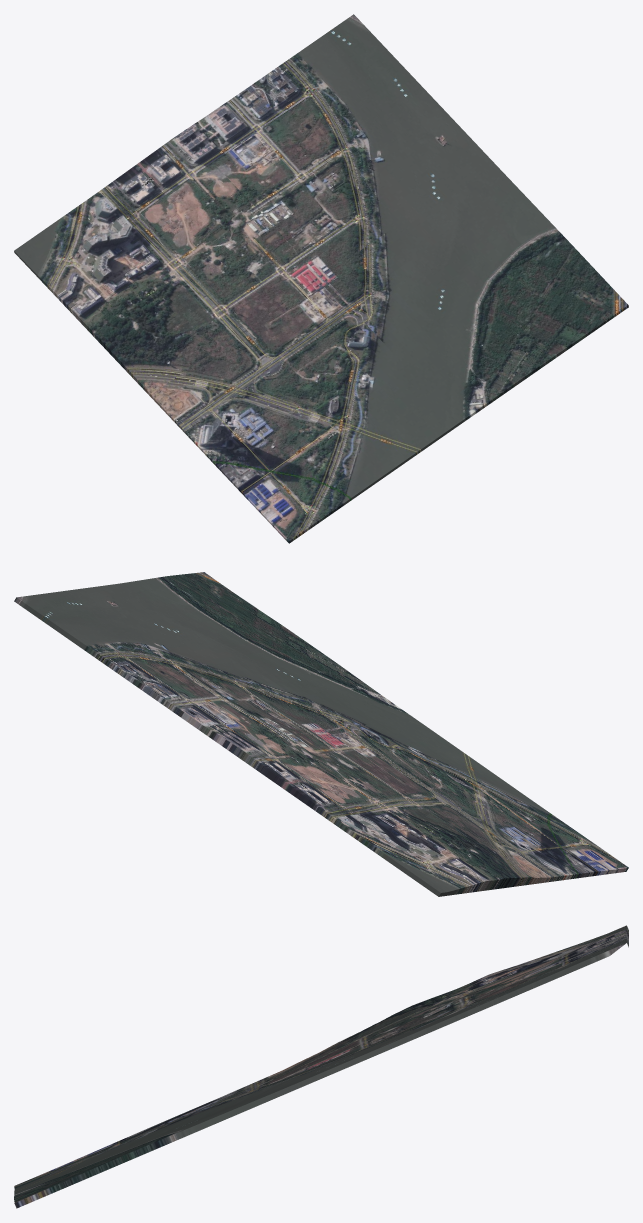
3 views of the same model, one above another, from view 1: azimuth 30°, elevation 25°; view 2: azimuth 150°, elevation 25°; view 3: azimuth 270°, elevation 25° (orthographic). The views are drawn at different scales.
Parts seen in each view (by area): view 1: 1_10_15; view 2: 1_10_15; view 3: 1_10_15.
Part boxes in pixels (box(x1,y1,x2,y2)): 1_10_15: box(14, 14, 628, 543); 1_10_15: box(14, 572, 628, 896); 1_10_15: box(14, 925, 628, 1208).
Bounding box in the file's own units: 1226 × 893 × 1124.
Materials: 1 (1 with a texture image).
